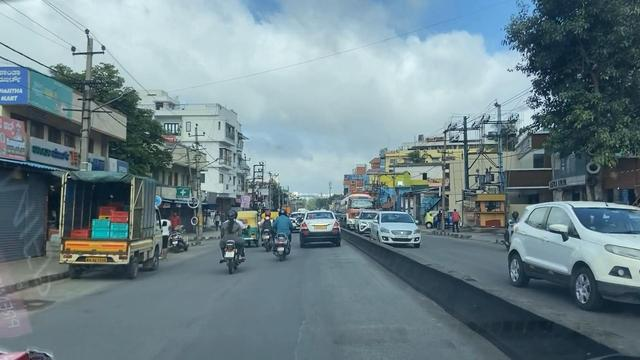HMV: (63, 171, 160, 268)
LMV: (217, 209, 244, 276), (303, 210, 341, 246), (273, 211, 291, 260)
UnsurfacedRoad: (293, 313, 314, 357)
